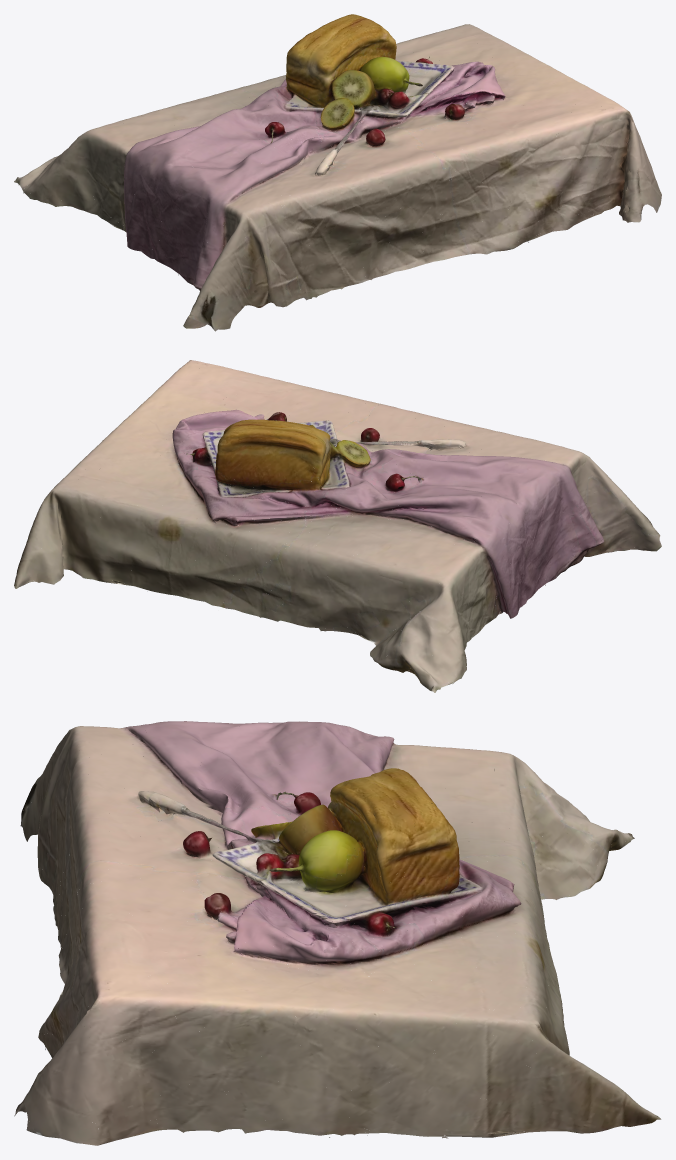
The model's file is 静物系列_面包水果04_opt.glb.
3 renders of one model, top to bottom at view 1: azimuth 30°, elevation 25°; view 2: azimuth 150°, elevation 25°; view 3: azimuth 270°, elevation 25°, orthographic. The views are drawn at different scales.
Parts seen in each view (by area): view 1: defaultMat, defaultMat_1; view 2: defaultMat, defaultMat_1; view 3: defaultMat, defaultMat_1.
Part boxes in pixels (<box>): defaultMat: <box>14,14,661,331</box>; defaultMat_1: <box>15,15,657,327</box>; defaultMat: <box>14,360,661,692</box>; defaultMat_1: <box>16,364,660,688</box>; defaultMat: <box>14,721,661,1145</box>; defaultMat_1: <box>17,722,625,1138</box>.
Bounding box in the file's own units: 2.01 × 0.6 × 1.57.
1 material, 1 textured.
